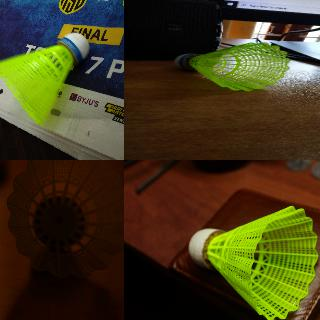shuttlecock: (188, 205, 319, 319), (7, 160, 123, 278), (0, 32, 90, 124), (175, 43, 289, 91)
